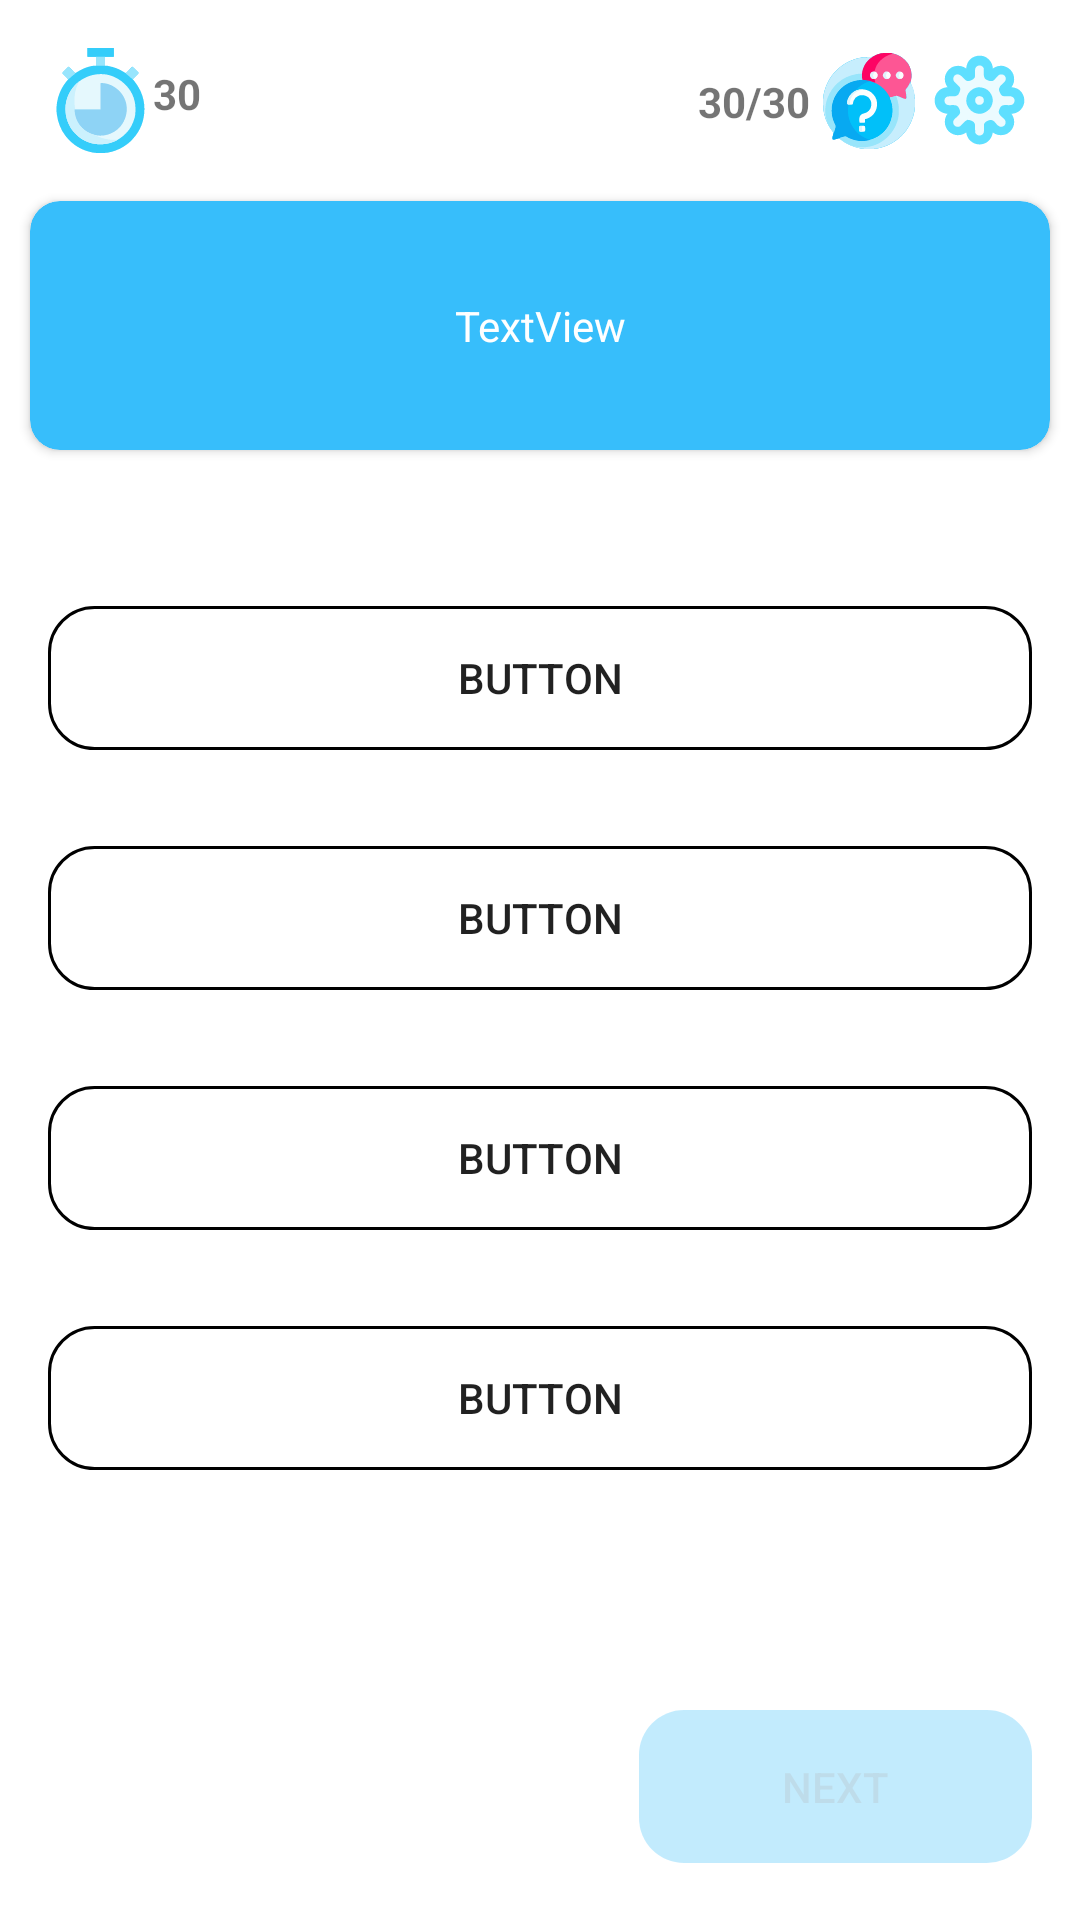

Screen size 1080w x 1920h. Icon name, then its center in pixels as (x=x, y=y):
gear: (x=979, y=100)
question mark: (x=869, y=101)
timer: (x=100, y=100)
